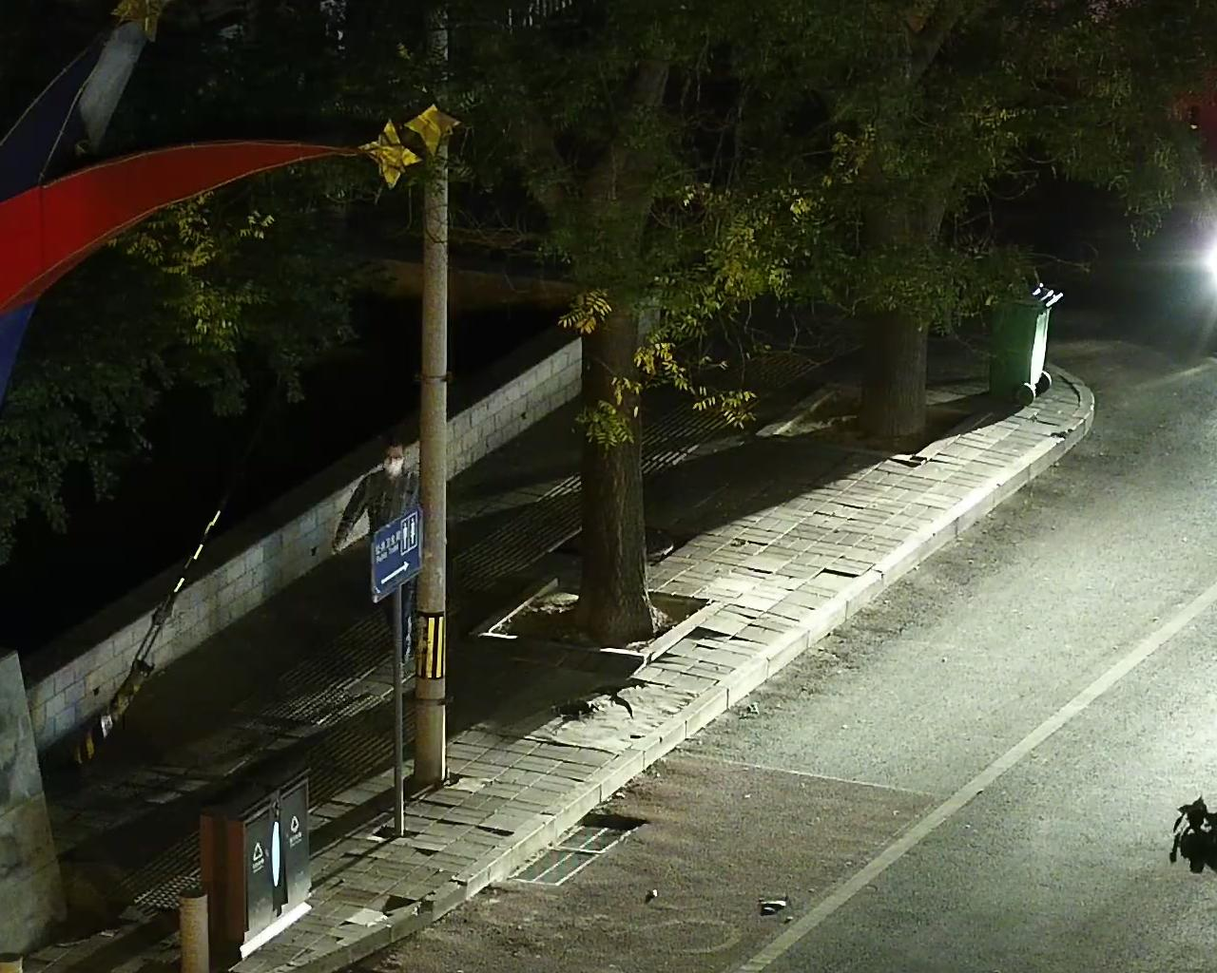person: (324, 444, 417, 691)
